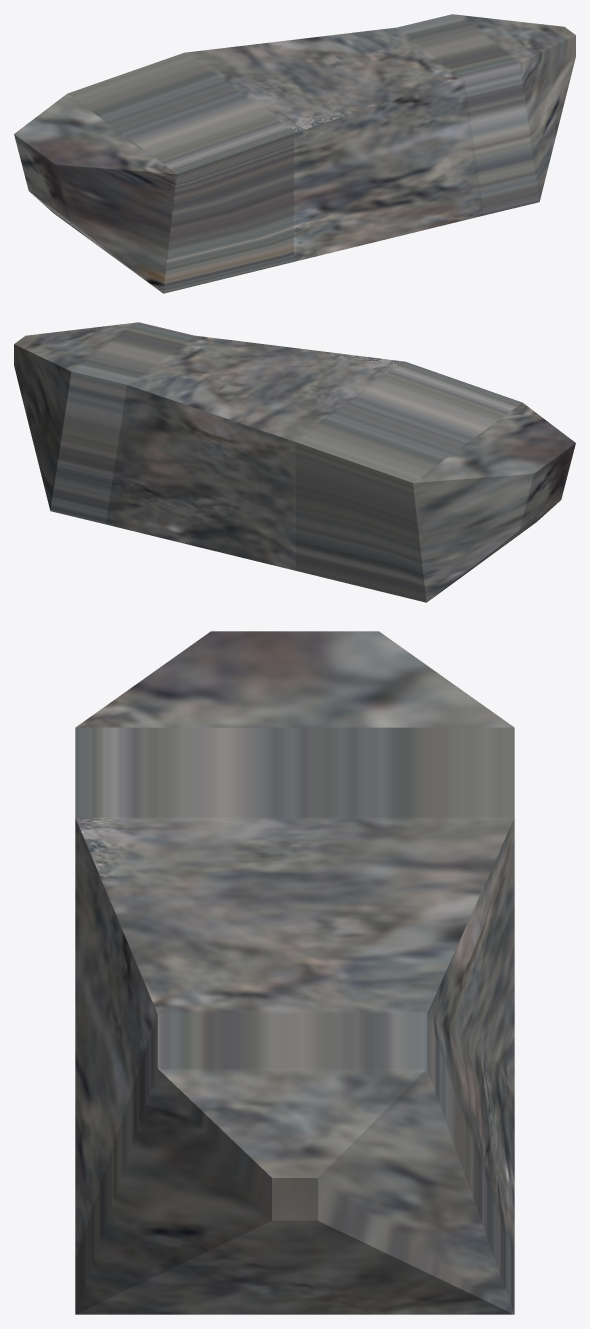
The model's file is CountDown'sBed.glb.
The picture shows the model from 3 angles, top to bottom: view 1: azimuth 30°, elevation 25°; view 2: azimuth 150°, elevation 25°; view 3: azimuth 270°, elevation 25°; orthographic projection. The views are drawn at different scales.
Visible parts, largest first — view 1: Cylinder.001; view 2: Cylinder.001; view 3: Cylinder.001.
Boxes of the visible parts, <box> form: Cylinder.001: <box>14,14,575,293</box>; Cylinder.001: <box>14,322,575,602</box>; Cylinder.001: <box>75,631,514,1314</box>.
Size of the model in its own units: 5.63 by 1.3 by 2.
Materials: 1 (1 with a texture image).
